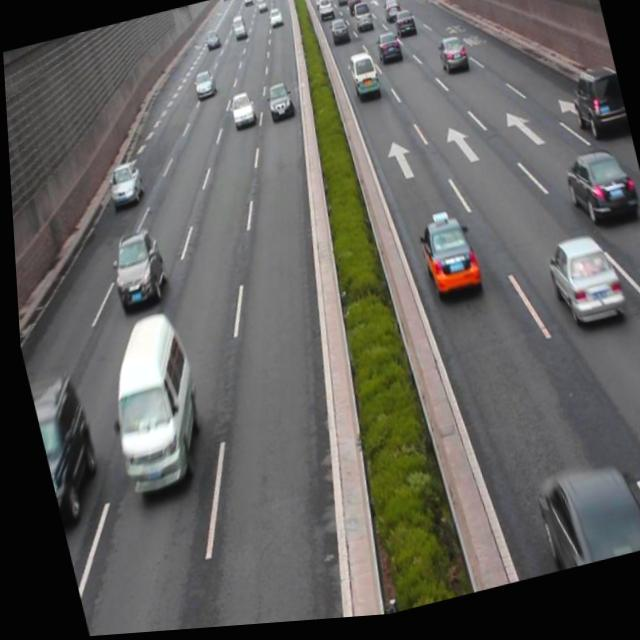car: (523, 453, 640, 581), (22, 363, 102, 526), (538, 237, 621, 341), (556, 152, 635, 241), (410, 216, 478, 310), (100, 226, 167, 315), (563, 69, 628, 153), (100, 160, 145, 211), (433, 38, 468, 83), (260, 82, 293, 128), (225, 92, 256, 136), (372, 36, 399, 69)
truck: (87, 308, 210, 500), (345, 54, 379, 108)
